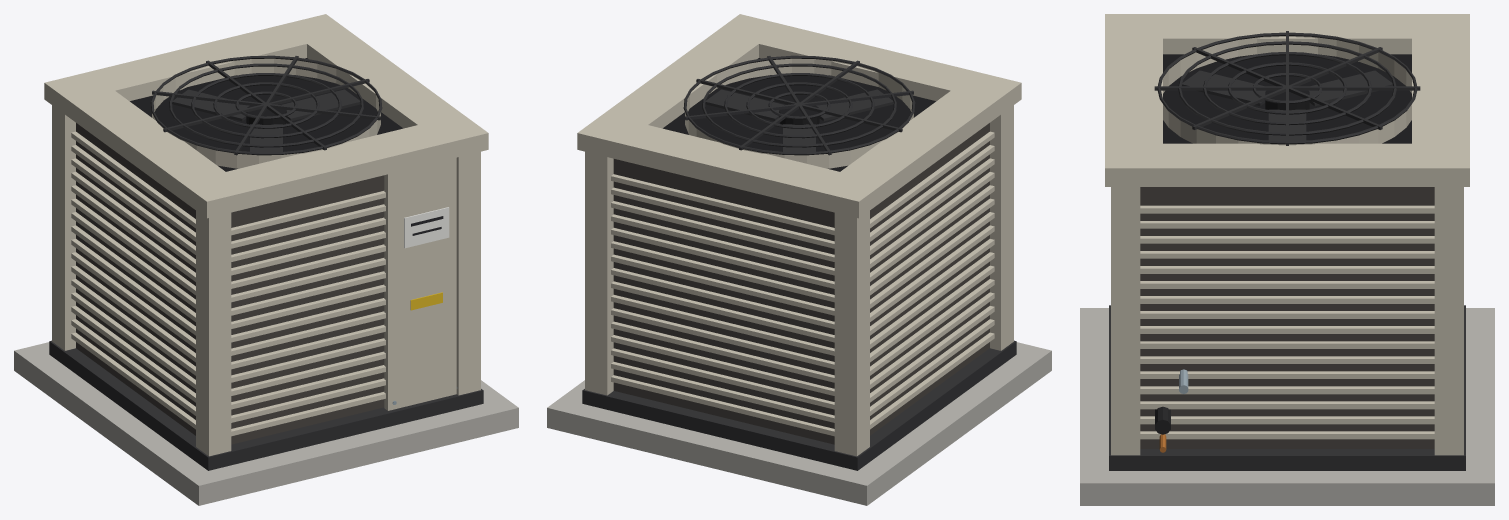
File: ac_condenser_unit.obj
3 renders of one model, left to right at view 1: azimuth 30°, elevation 25°; view 2: azimuth 150°, elevation 25°; view 3: azimuth 270°, elevation 25°, orthographic. The views are drawn at different scales.
Bounding box in the file's own units: 1 × 0.881 × 1.
